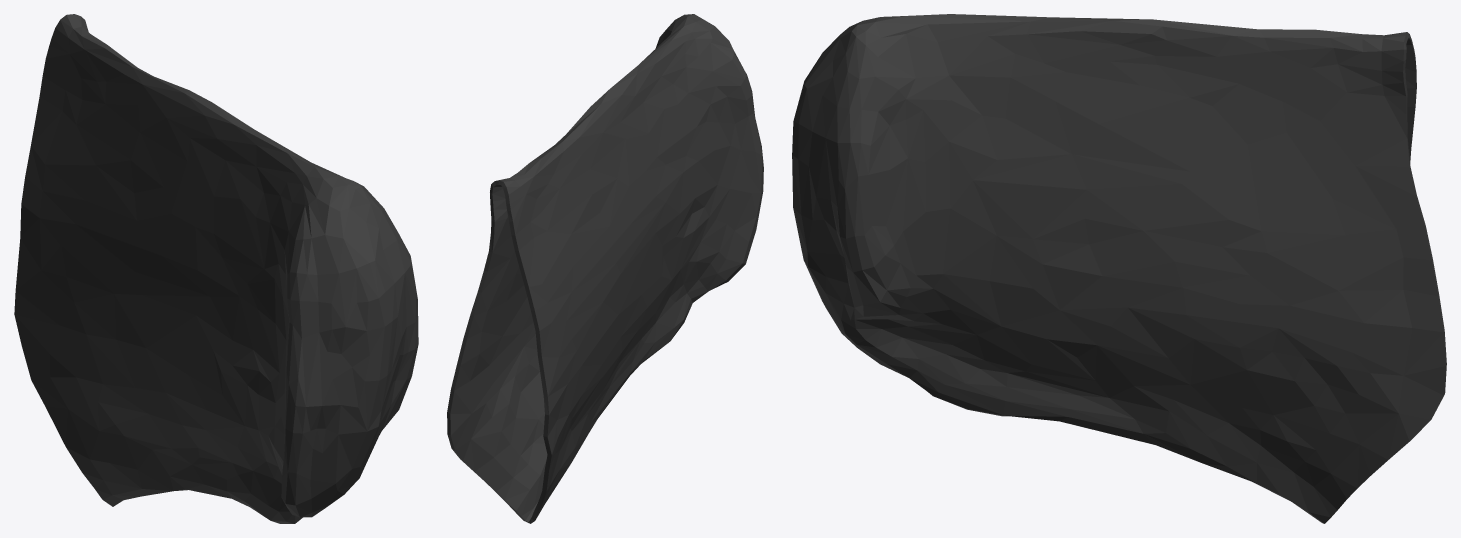
Rendered from l1_spinous_process.glb.
3 renders of one model, left to right at view 1: azimuth 30°, elevation 25°; view 2: azimuth 150°, elevation 25°; view 3: azimuth 270°, elevation 25°, orthographic. The views are drawn at different scales.
Visible parts, largest first — view 1: l1_spinous_process; view 2: l1_spinous_process; view 3: l1_spinous_process.
Boxes of the visible parts, x1,y1,x2,y2 form: l1_spinous_process: [14, 14, 418, 523]; l1_spinous_process: [447, 14, 763, 523]; l1_spinous_process: [792, 14, 1446, 523].
Bounding box in the file's own units: 6.72 × 21.77 × 25.36.
1 material, 1 textured.
